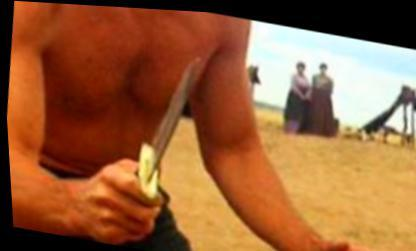knife: (90, 28, 215, 250)
